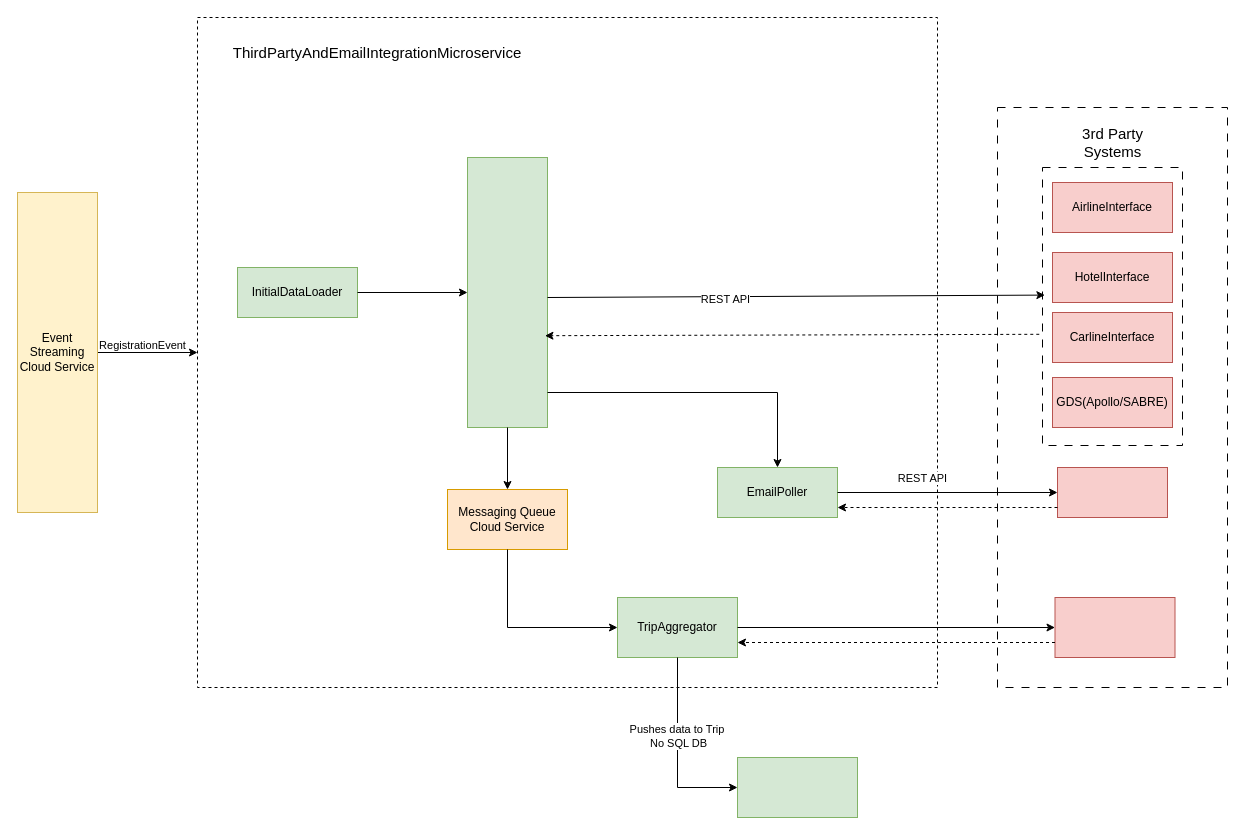
This 1245x835 diagram has some shape labels left out. Each missing label, with the centre of its shape:
"LanguageTranslation Cloud Service" goes at point 1114,627.
"Mail Exchange Server(GMAIL, Microsoft etc)" goes at point 1112,492.
"Orchestrator" goes at point 507,292.
"TripMicroservice" goes at point 797,787.
